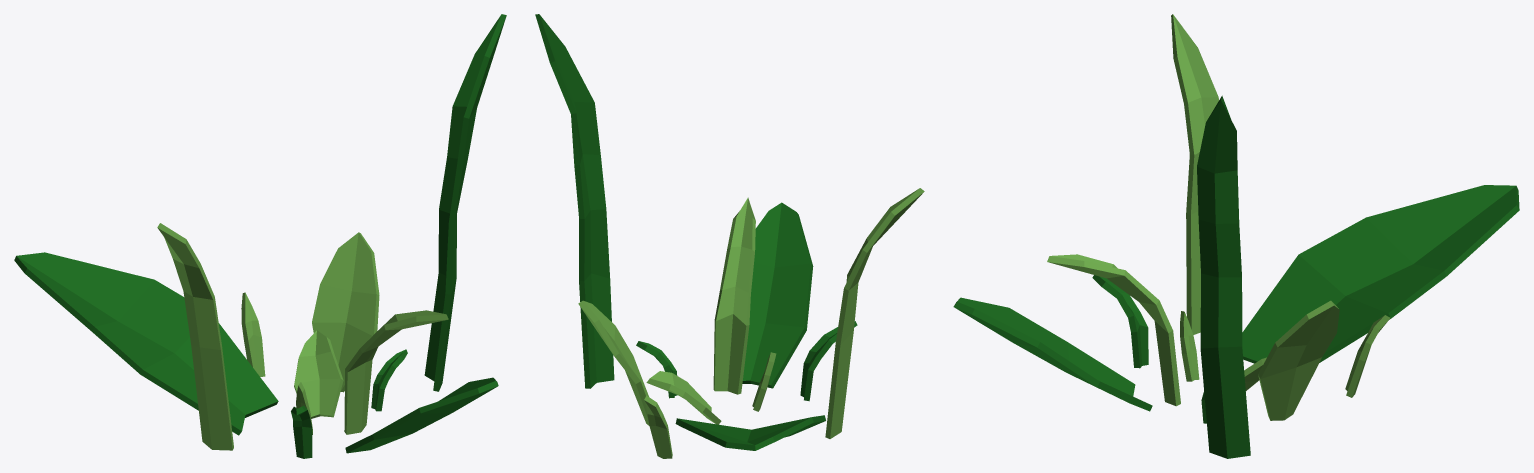
Rendered from Stage4.fbx.
The picture shows the model from 3 angles, left to right: view 1: azimuth 30°, elevation 25°; view 2: azimuth 150°, elevation 25°; view 3: azimuth 270°, elevation 25°; orthographic projection. The views are drawn at different scales.
Parts seen in each view (by area): view 1: Grass2.4; view 2: Grass2.4; view 3: Grass2.4.
Part boxes in pixels (box(x1,y1,x2,y2)): Grass2.4: box(14, 14, 506, 458); Grass2.4: box(535, 14, 924, 458); Grass2.4: box(953, 14, 1519, 458).
Bounding box in the file's own units: 21.78 × 20.46 × 25.99.
